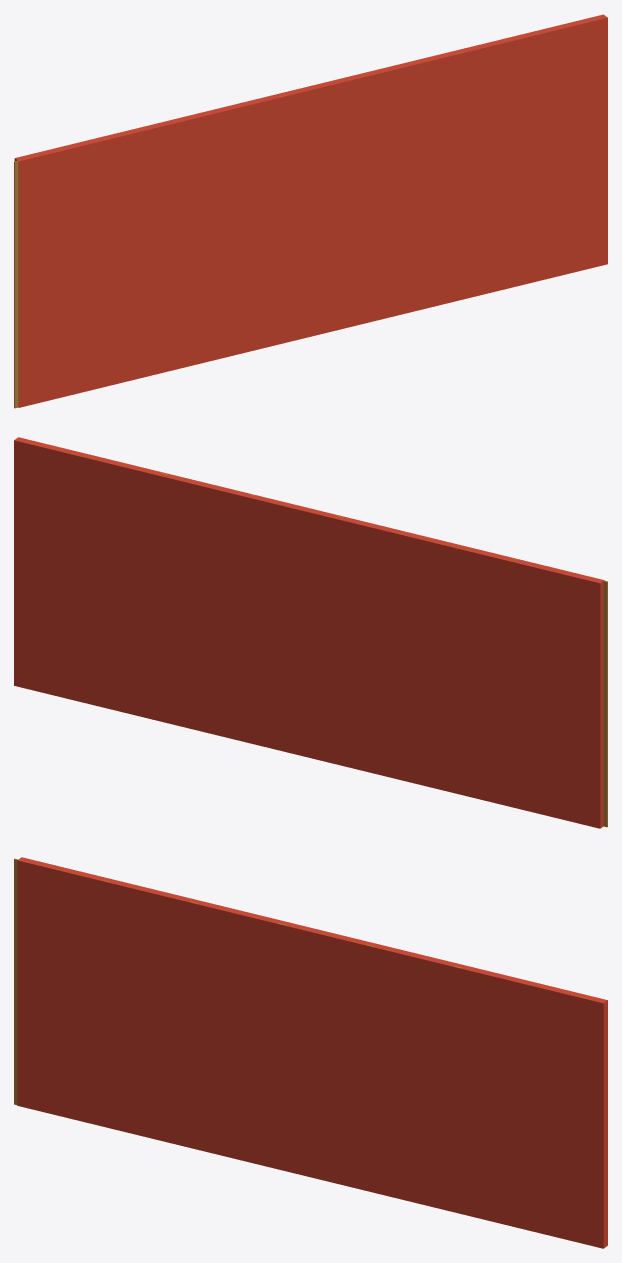
The model's file is 095_L102_Termination_Fault.fbx.
The picture shows the model from 3 angles, top to bottom: view 1: azimuth 30°, elevation 25°; view 2: azimuth 150°, elevation 25°; view 3: azimuth 330°, elevation 25°; orthographic projection.
Visible parts, largest first — view 1: Termination_Fault; view 2: Termination_Fault; view 3: Termination_Fault.
Boxes of the visible parts, <box> form: Termination_Fault: <box>14,14,607,408</box>; Termination_Fault: <box>14,437,607,828</box>; Termination_Fault: <box>14,857,607,1248</box>.
Bounding box in the file's own units: 0.0101 × 0.004 × 0.00013.
